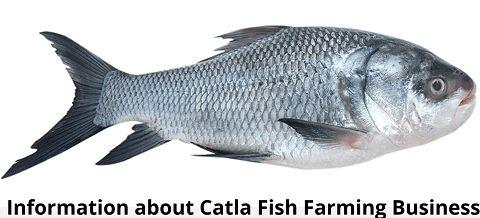Indian Carp: (1, 24, 478, 181)
